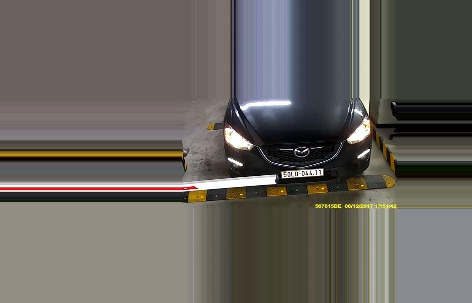plate: (280, 166, 325, 178)
